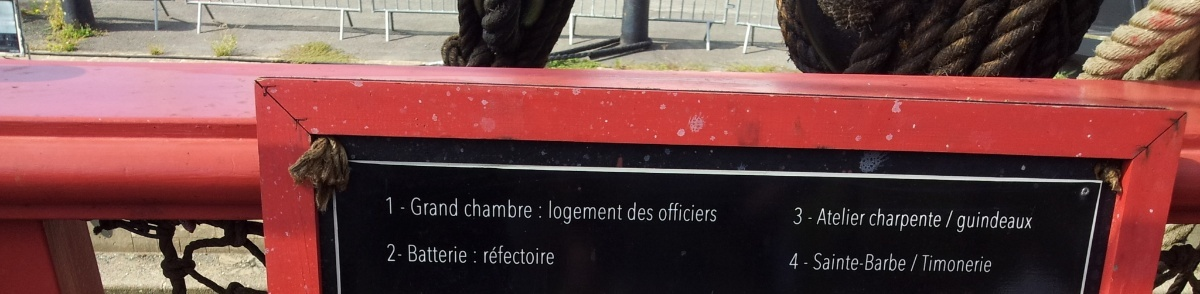text: (801, 247, 816, 277), (817, 247, 832, 277), (833, 247, 848, 277), (849, 247, 864, 277), (865, 247, 880, 277), (881, 247, 896, 277), (897, 247, 912, 277), (913, 247, 928, 277), (929, 247, 944, 277), (945, 247, 960, 277), (961, 247, 976, 277), (977, 247, 992, 277), (881, 206, 896, 235), (897, 206, 912, 235), (913, 206, 928, 235), (929, 206, 944, 235), (945, 206, 960, 235), (961, 206, 976, 235), (977, 206, 992, 235), (993, 206, 1008, 235), (1009, 206, 1024, 235), (609, 200, 625, 226), (561, 200, 576, 226), (577, 200, 592, 226), (593, 200, 608, 226), (465, 198, 480, 221), (481, 198, 496, 221), (497, 198, 512, 221), (513, 198, 528, 221), (801, 205, 816, 228), (817, 205, 832, 228), (833, 205, 848, 228), (849, 205, 864, 228), (497, 245, 512, 267), (513, 245, 528, 267), (529, 245, 544, 267), (385, 196, 400, 218), (401, 196, 416, 218), (417, 196, 432, 218), (433, 196, 448, 218), (673, 201, 688, 223), (689, 201, 704, 223), (529, 198, 543, 221), (869, 206, 880, 235), (1025, 206, 1036, 235), (401, 243, 416, 264), (417, 243, 432, 264), (433, 243, 448, 264), (449, 243, 464, 264), (465, 243, 480, 264), (658, 201, 672, 223), (549, 200, 560, 226), (705, 201, 718, 223), (387, 243, 400, 264), (484, 245, 496, 267), (545, 245, 557, 267), (449, 196, 461, 218), (641, 201, 654, 221), (792, 247, 800, 277), (629, 201, 640, 221), (795, 205, 800, 228), (865, 205, 868, 228), (993, 247, 994, 277)
